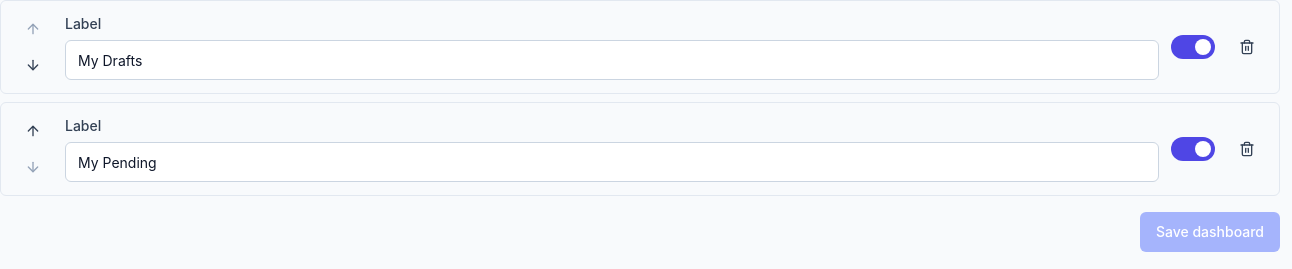
Scenario: WidgetsConfigEditor › removing a widget marks the draft dirty
The width and height of the screenshot is (1292, 269).
Click the button named "Remove My Drafts" at (1247, 47), box [1227,31,1267,63]
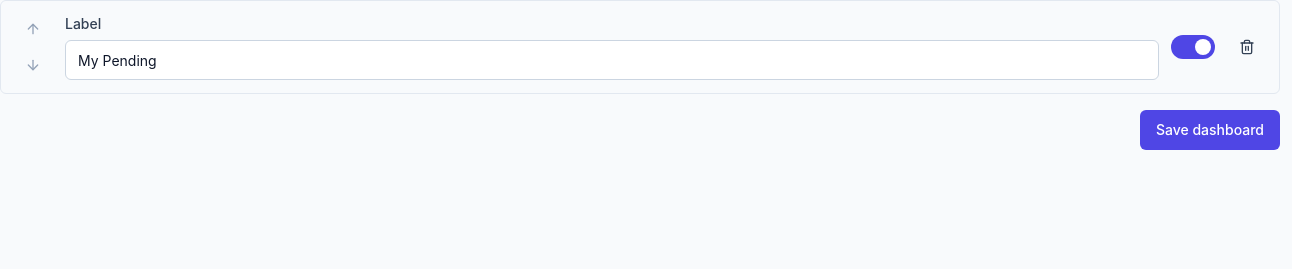
expect the button "Save dashboard" is enabled: met, box [1140,110,1280,150]
